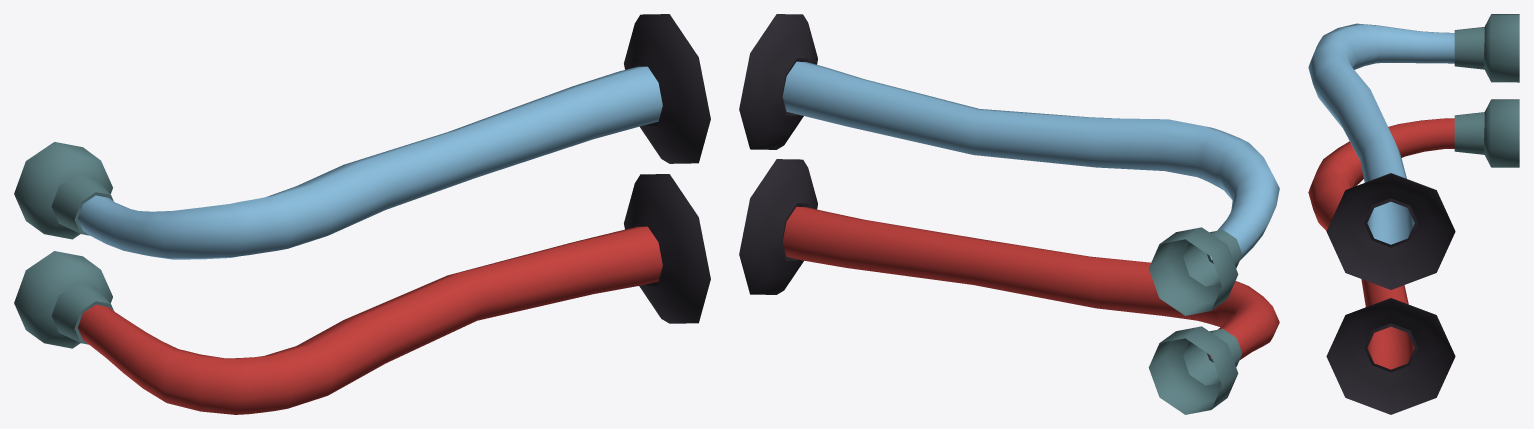
Rendered from 139_cables.glb.
3 renders of one model, left to right at view 1: azimuth 30°, elevation 25°; view 2: azimuth 150°, elevation 25°; view 3: azimuth 270°, elevation 25°, orthographic. The views are drawn at different scales.
Parts seen in each view (by area): view 1: cables; view 2: cables; view 3: cables.
Boxes of the visible parts, x1,y1,x2,y2 form: cables: (14, 14, 710, 414); cables: (739, 14, 1279, 414); cables: (1308, 14, 1519, 414).
Size of the model in its own units: 0.7262 by 0.375 by 0.2967.
